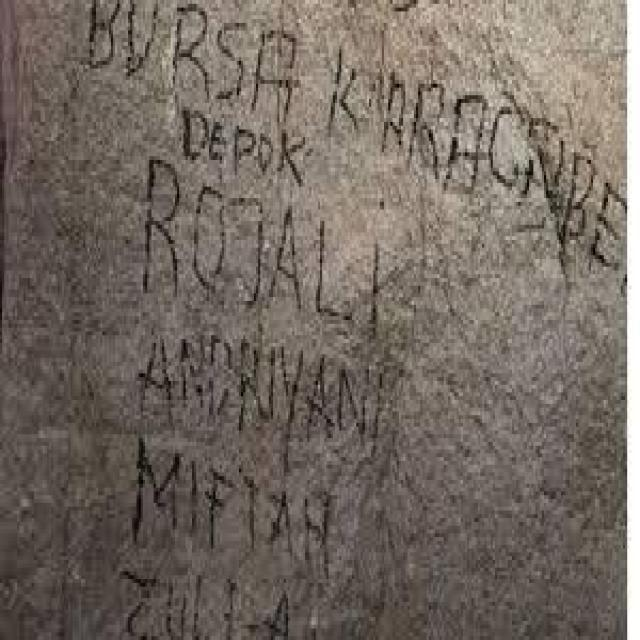nonspitting: (90, 0, 630, 640)
